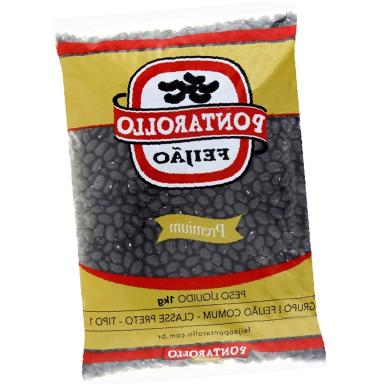beans package: (57, 12, 324, 378)
